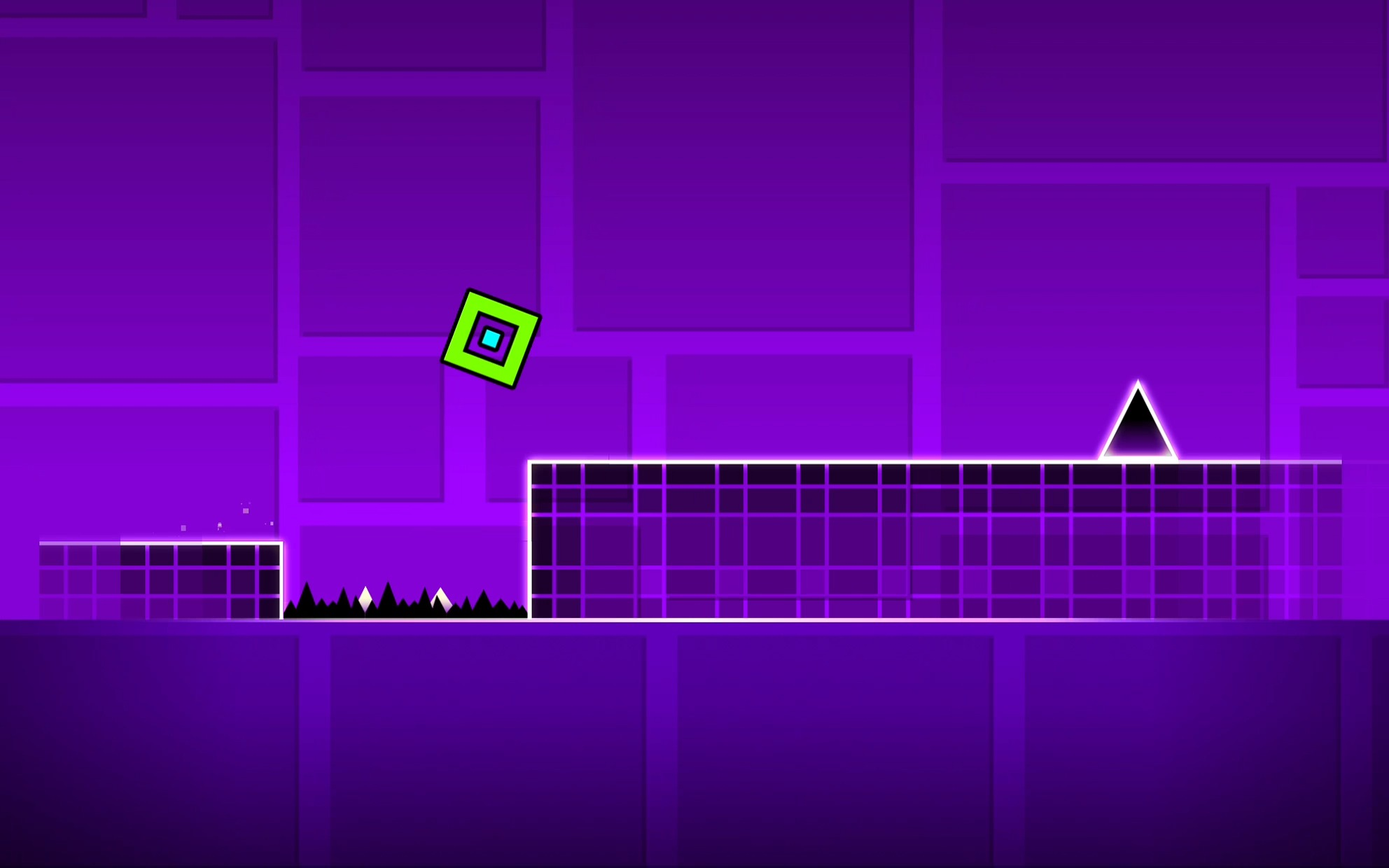Block2: (522, 457, 1370, 612), (34, 542, 281, 620)
Player: (441, 288, 540, 388)
Spike: (1101, 381, 1176, 458)
Spike3: (283, 582, 526, 622)
